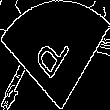P_SW: (33, 23, 77, 87)
